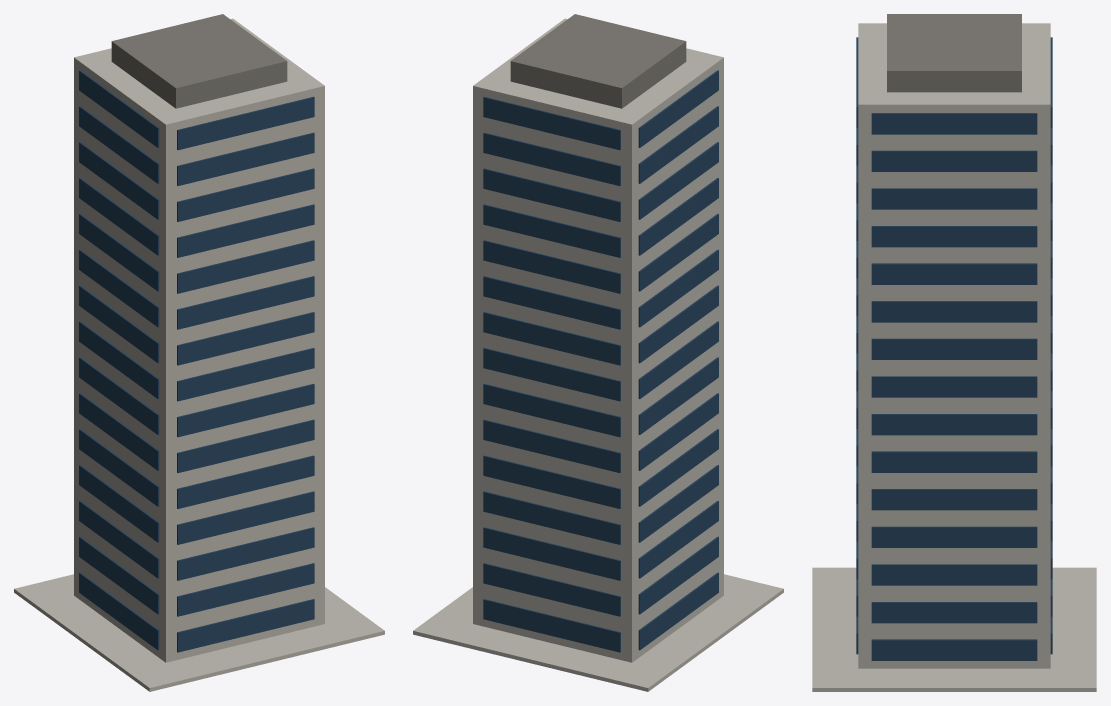
File: zone_C_d4_e3.glb
3 renders of one model, left to right at view 1: azimuth 30°, elevation 25°; view 2: azimuth 150°, elevation 25°; view 3: azimuth 270°, elevation 25°, orthographic. The views are drawn at different scales.
Parts seen in each view (by area): view 1: zone_C_d4_e3; view 2: zone_C_d4_e3; view 3: zone_C_d4_e3.
Part boxes in pixels (x1,y1,x2,y2): zone_C_d4_e3: [14, 14, 384, 691]; zone_C_d4_e3: [413, 14, 783, 691]; zone_C_d4_e3: [812, 14, 1096, 691].
Bounding box in the file's own units: 0.96 × 2.19 × 0.96.
